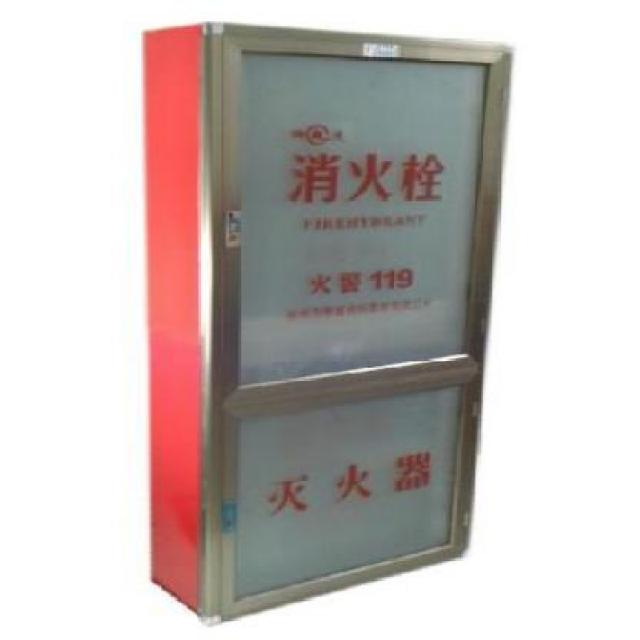firehydrant: (137, 17, 520, 631)
